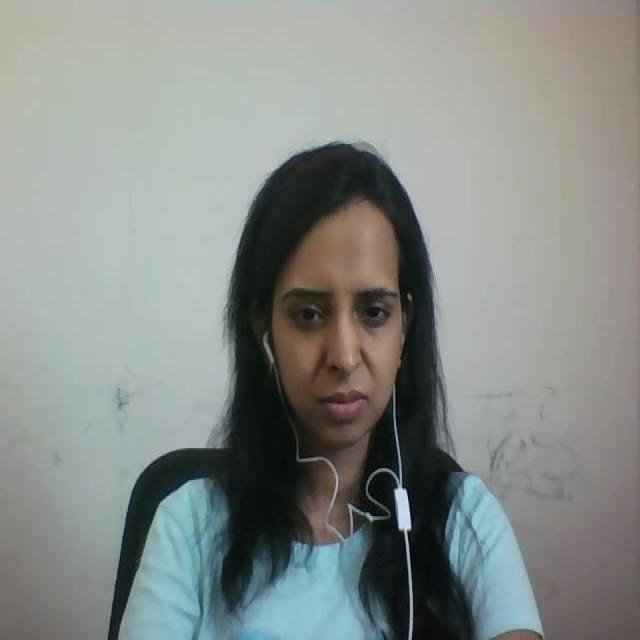Engaged: (193, 124, 444, 456)
